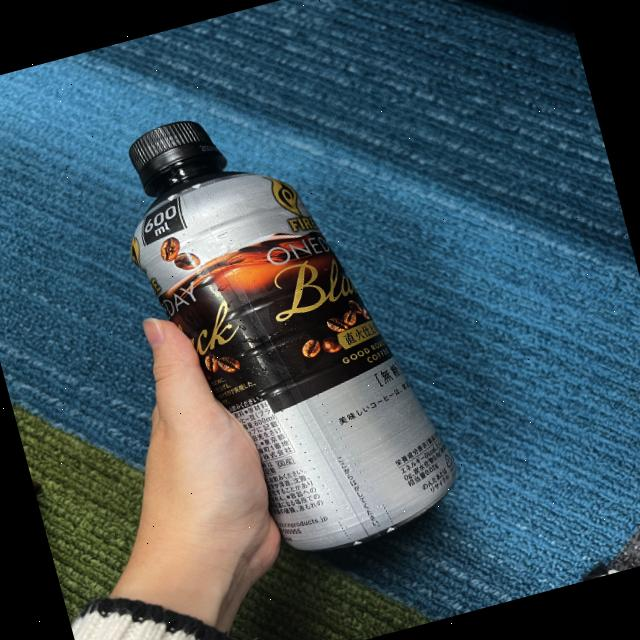coffee-black: (70, 70, 502, 592)
